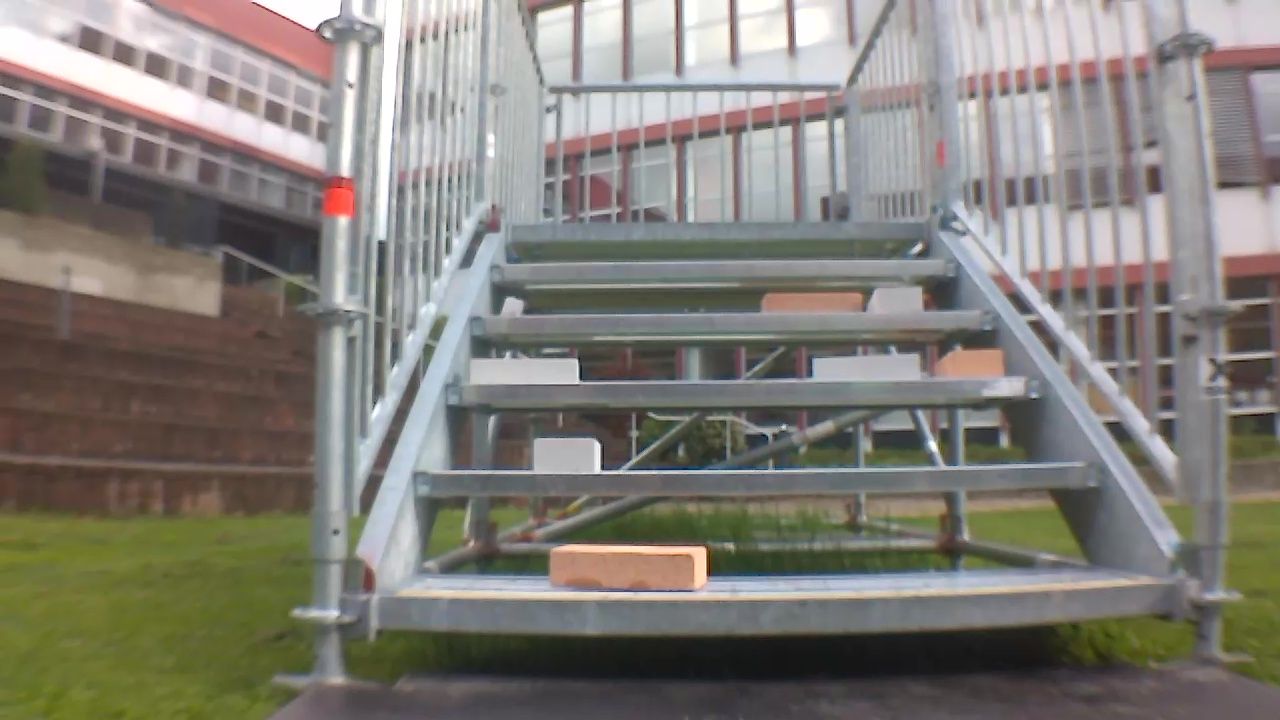brick: (550, 543, 705, 592), (815, 353, 918, 380), (472, 358, 578, 383), (536, 439, 598, 471), (764, 293, 860, 313), (936, 350, 1002, 378), (868, 288, 923, 311)
edge: (380, 582, 1172, 634), (417, 462, 1100, 495), (448, 377, 1044, 404), (469, 312, 997, 331), (511, 220, 927, 241), (490, 260, 962, 277)
stairs: (299, 2, 1253, 663)
steps: (366, 213, 1193, 643)
